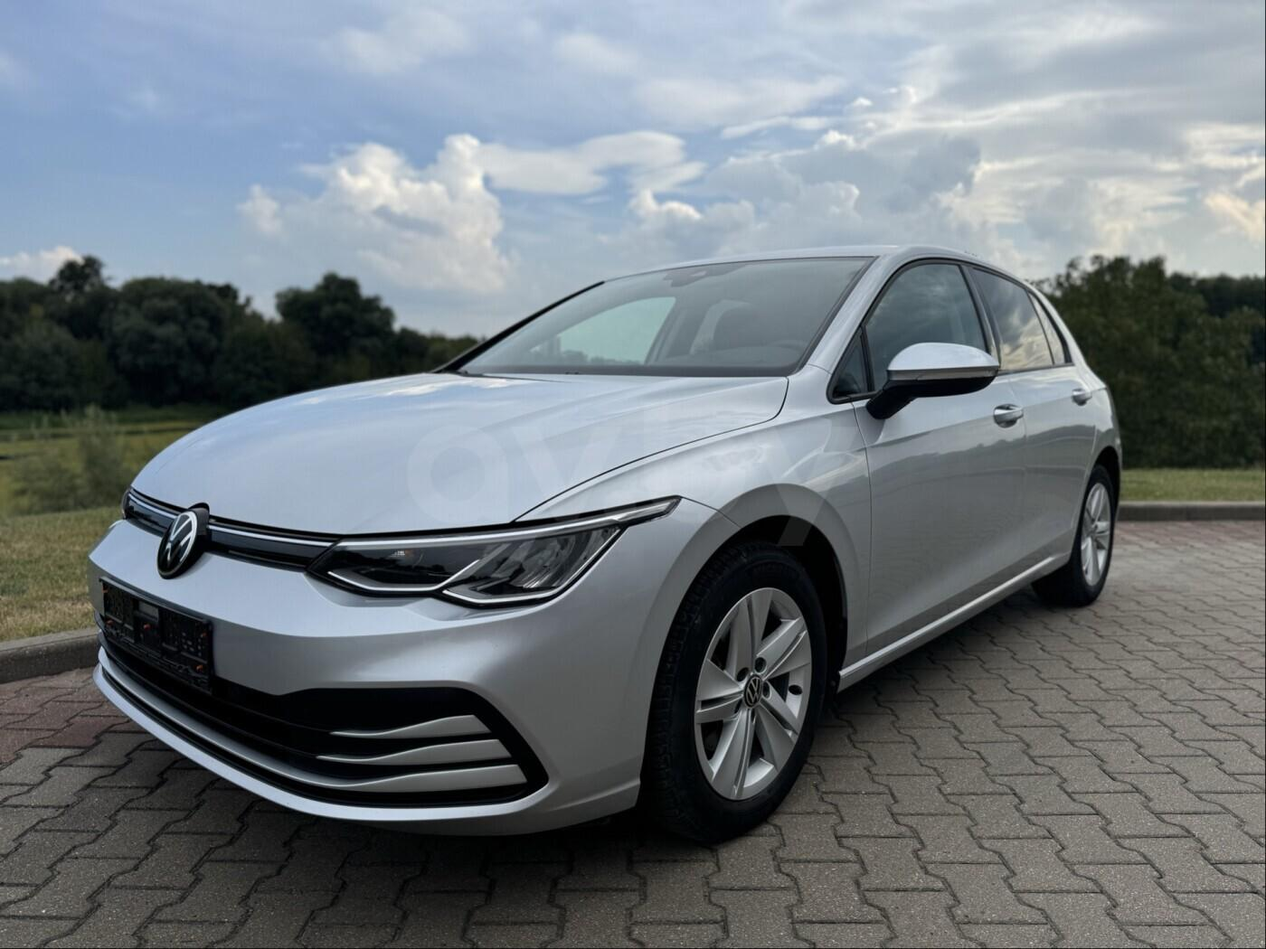Golf_2019: (85, 244, 1144, 863)
